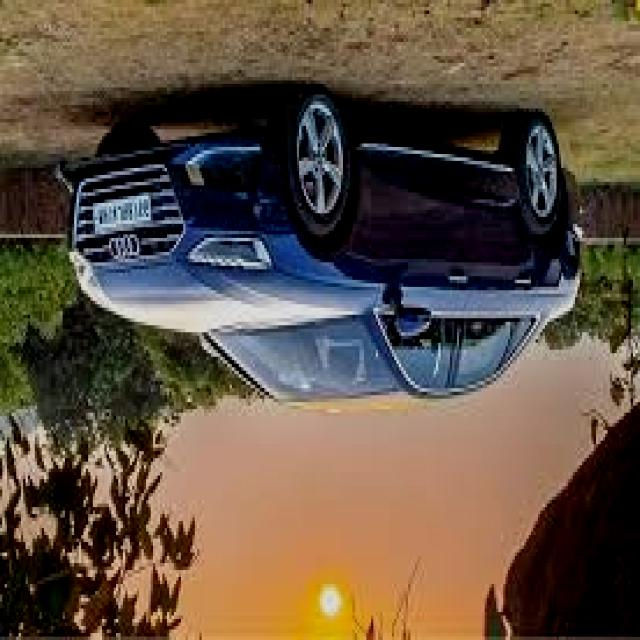blue: (65, 102, 586, 416)
